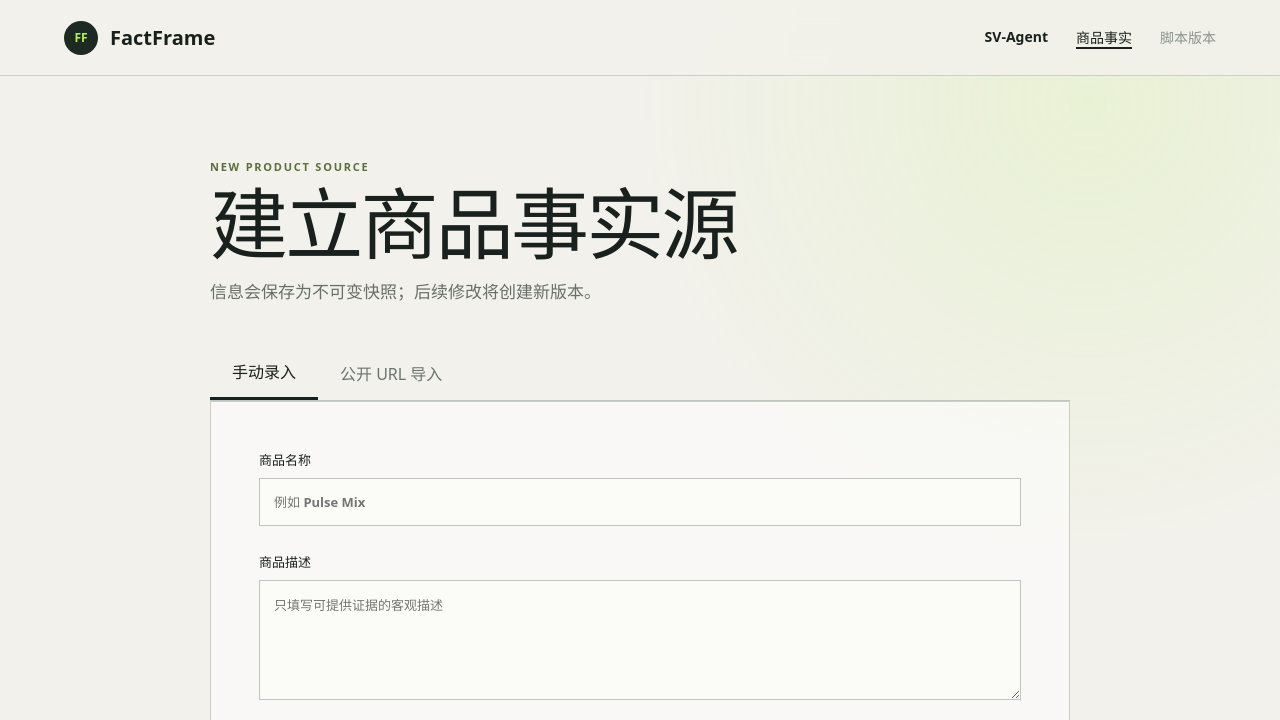
Test case: product facts workspace › creates a manual product and shows proposed facts
In the field labelled "商品名称": coordinates (640, 502) [259,478,1021,526], type "Pulse Mix"
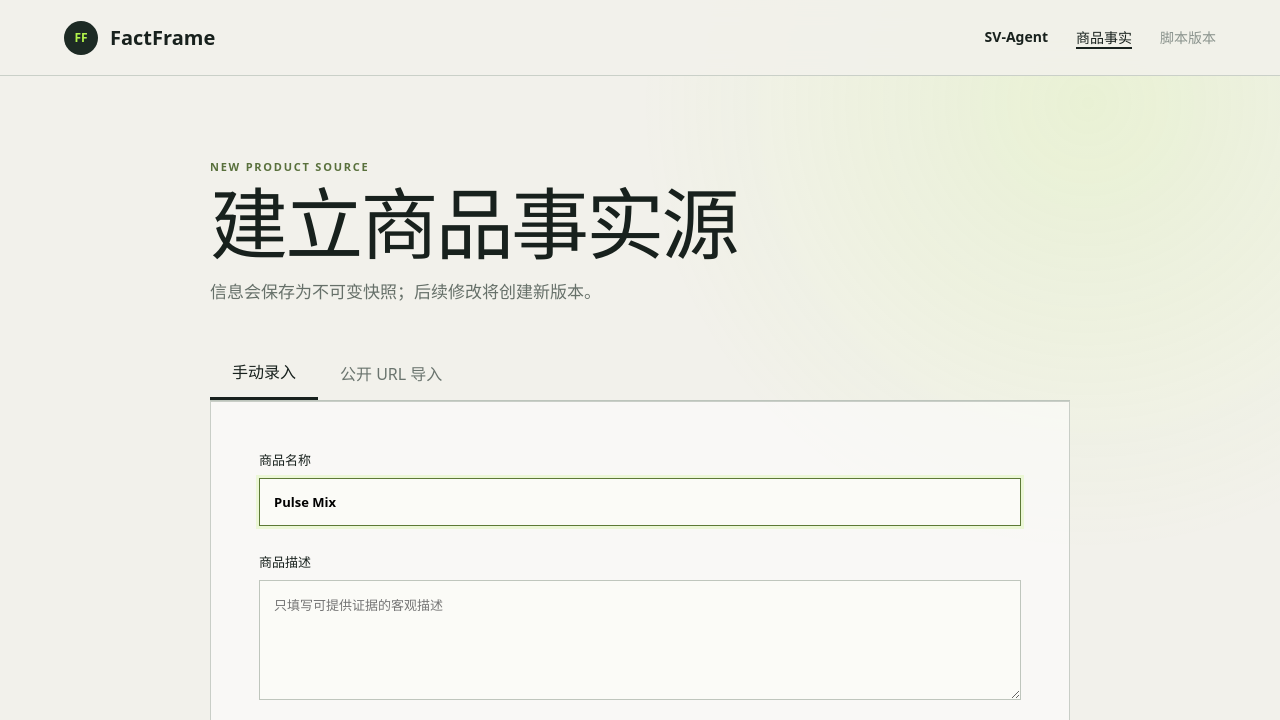
In the text box labelled "商品描述": coordinates (640, 640) [259,580,1021,700], type "Resealable drink mix pouch"
(page scrolled)
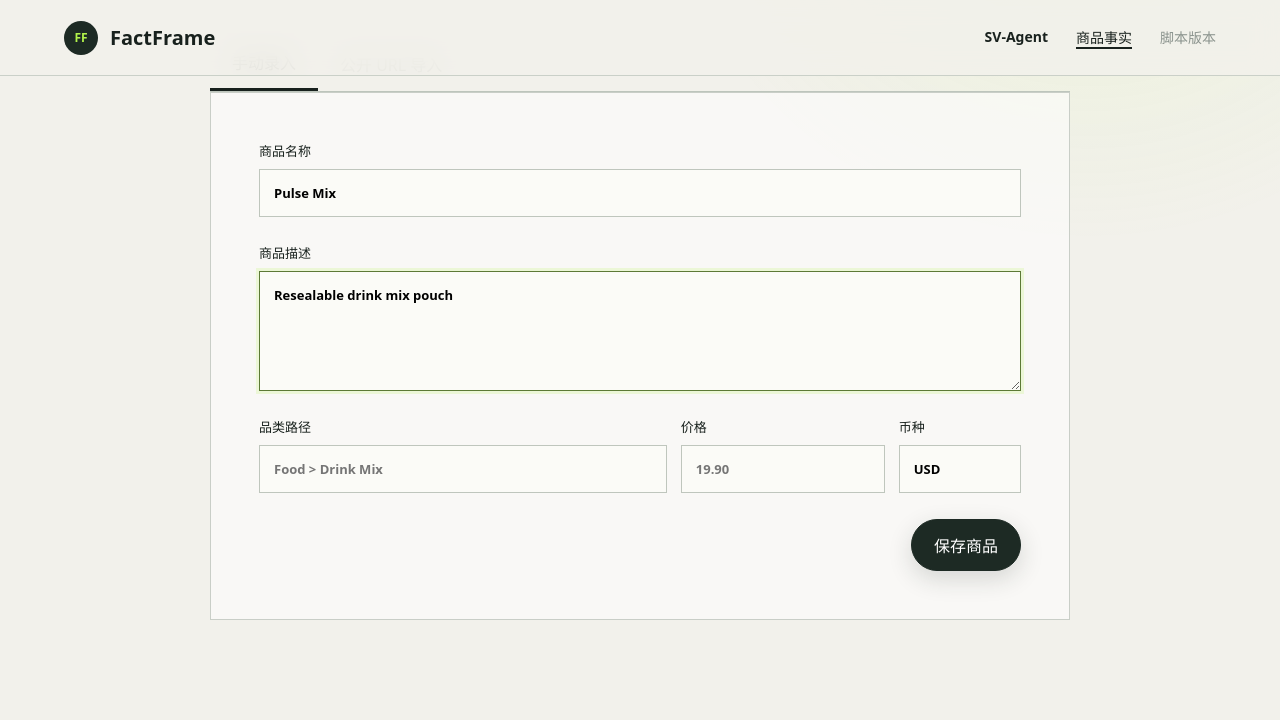
Click the button "保存商品": coordinates (966, 545) [911,519,1021,571]
(page scrolled)
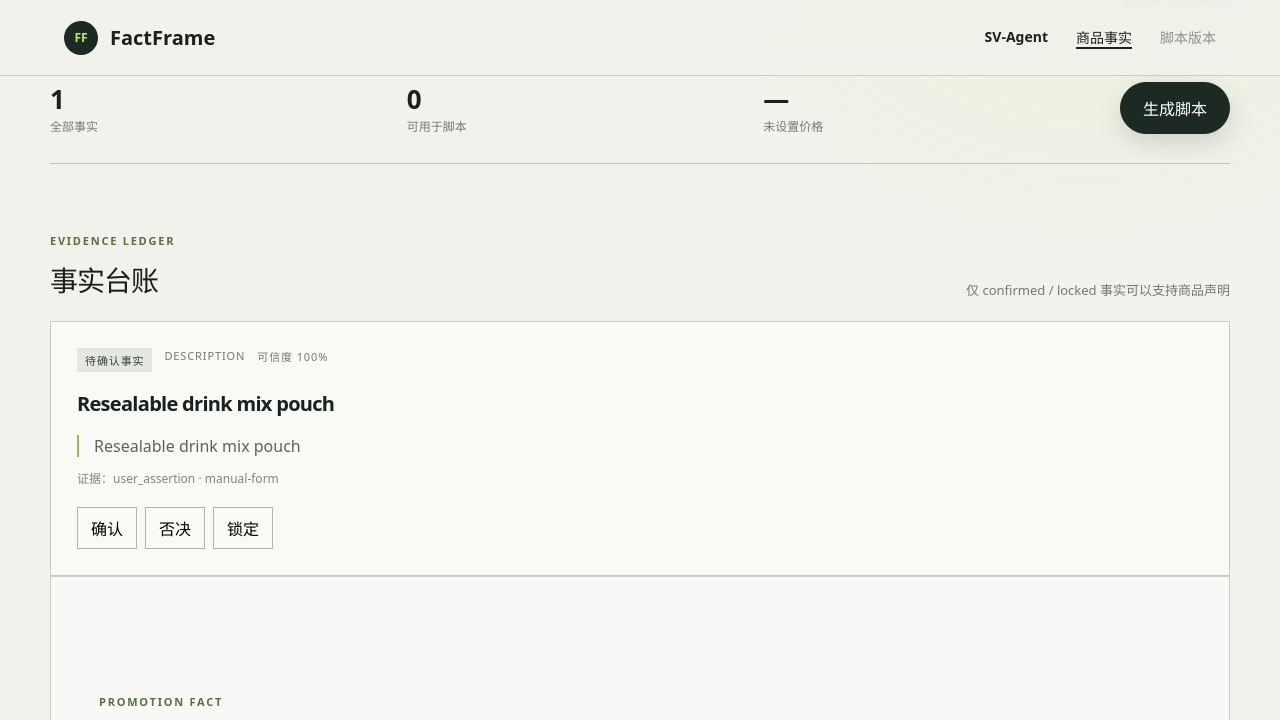
Expected: the text "待确认事实" is shown, [77,348,152,372]
